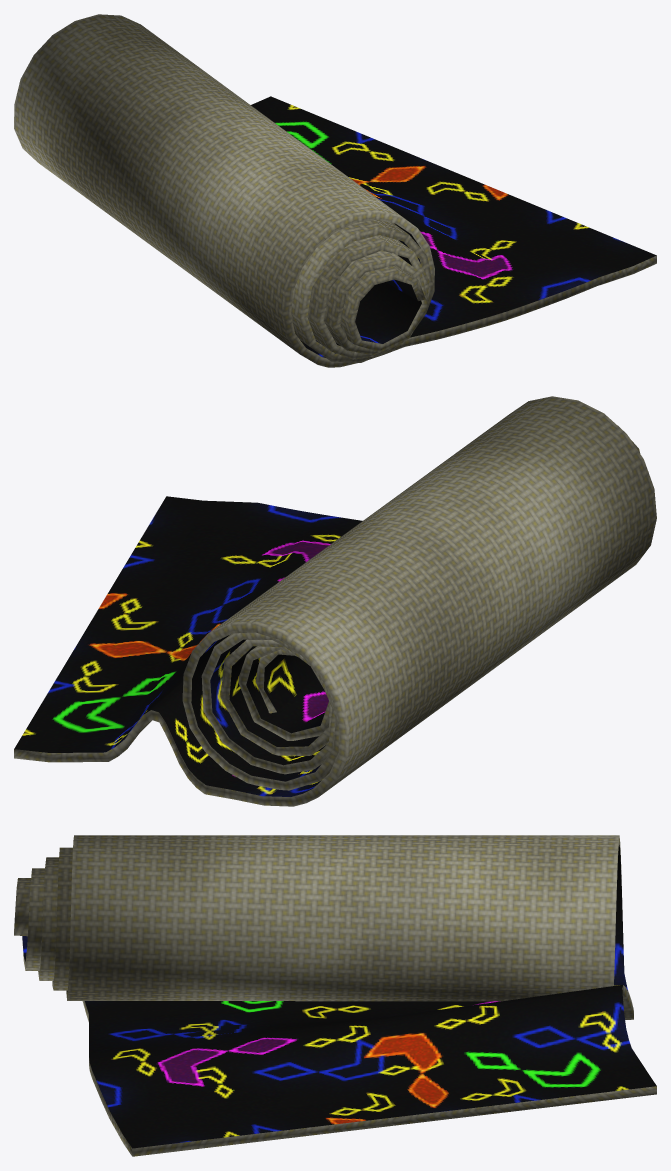
Rendered from SM_CarpetRoll.fbx.
3 renders of one model, top to bottom at view 1: azimuth 30°, elevation 25°; view 2: azimuth 150°, elevation 25°; view 3: azimuth 270°, elevation 25°, orthographic. The views are drawn at different scales.
Parts seen in each view (by area): view 1: CarpetRoll002; view 2: CarpetRoll002; view 3: CarpetRoll002.
Part boxes in pixels (x1,y1,x2,y2): CarpetRoll002: (14,14,656,367); CarpetRoll002: (14,396,656,806); CarpetRoll002: (14,835,656,1156).
Bounding box in the file's own units: 103 × 37.75 × 142.
Materials: 2 (2 with a texture image).
